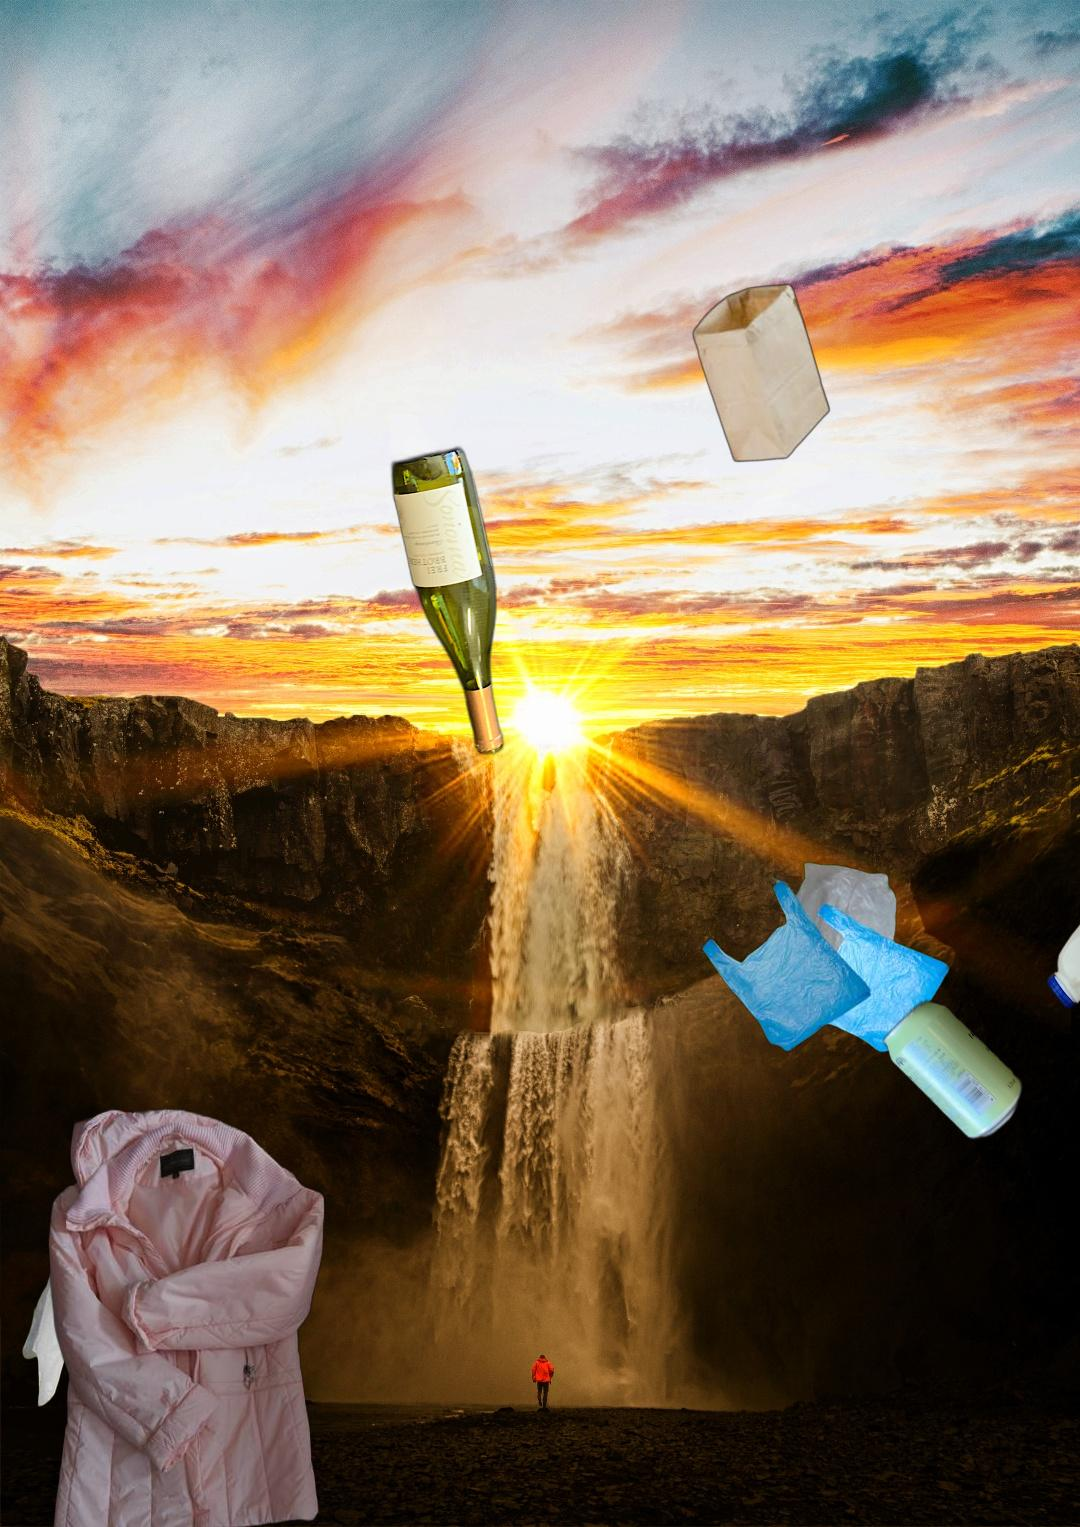clothes: (46, 1102, 328, 1527)
glass: (387, 440, 508, 759)
metal-cans: (879, 994, 1027, 1146)
paper-bag: (691, 282, 832, 465)
penholder: (989, 1094, 1080, 1527)
plastic-bag: (701, 859, 951, 1056), (21, 1208, 212, 1432)
plastic-bottles: (1041, 883, 1080, 1016)
